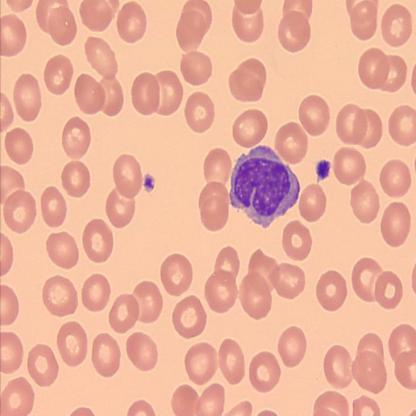Monocyte: (227, 143, 303, 232)
